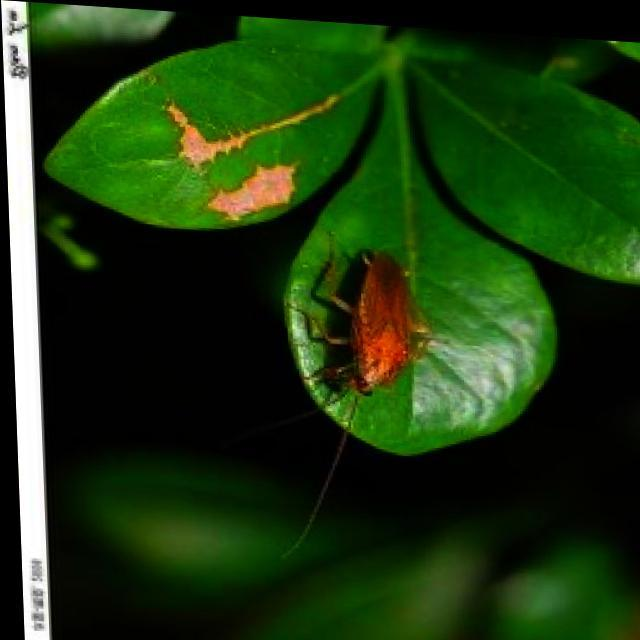cockroach: (311, 220, 423, 450)
